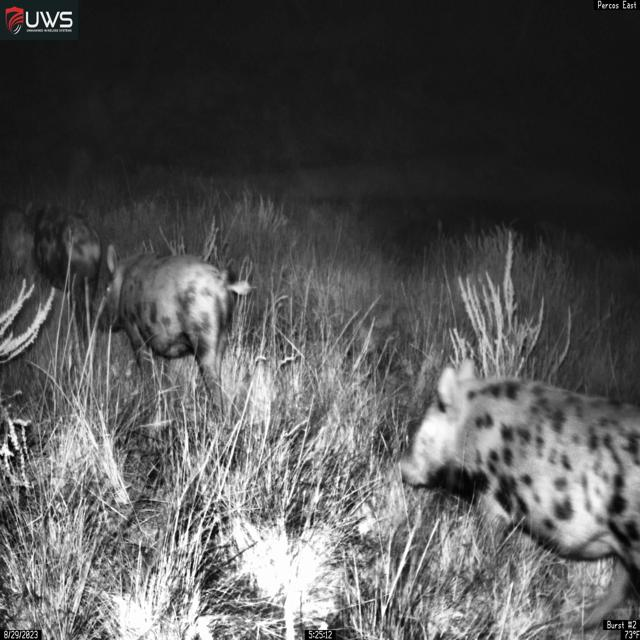pig: (398, 357, 640, 632)
